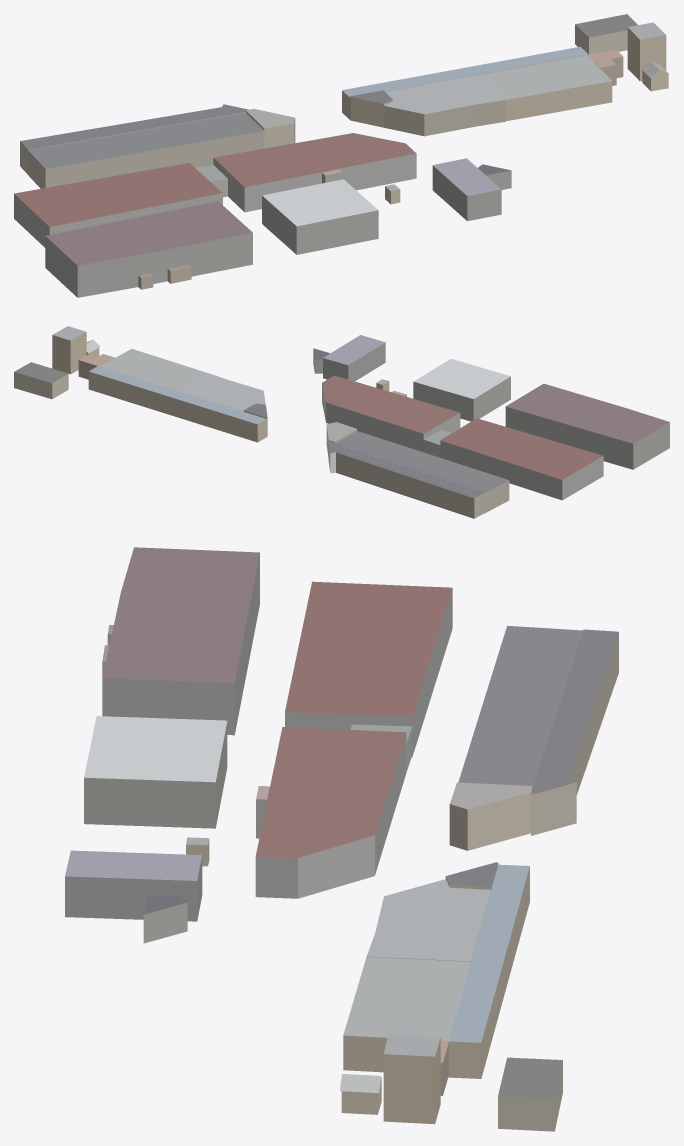
3 renders of one model, top to bottom at view 1: azimuth 30°, elevation 25°; view 2: azimuth 150°, elevation 25°; view 3: azimuth 270°, elevation 25°, orthographic. The views are drawn at different scales.
Visible parts, largest first — view 1: tuile; view 2: tuile; view 3: tuile.
Part boxes in pixels (<box>): tuile: <box>14,14,668,297</box>; tuile: <box>14,326,669,518</box>; tuile: <box>65,547,618,1131</box>.
Bounding box in the file's own units: 262 × 16.76 × 114.
